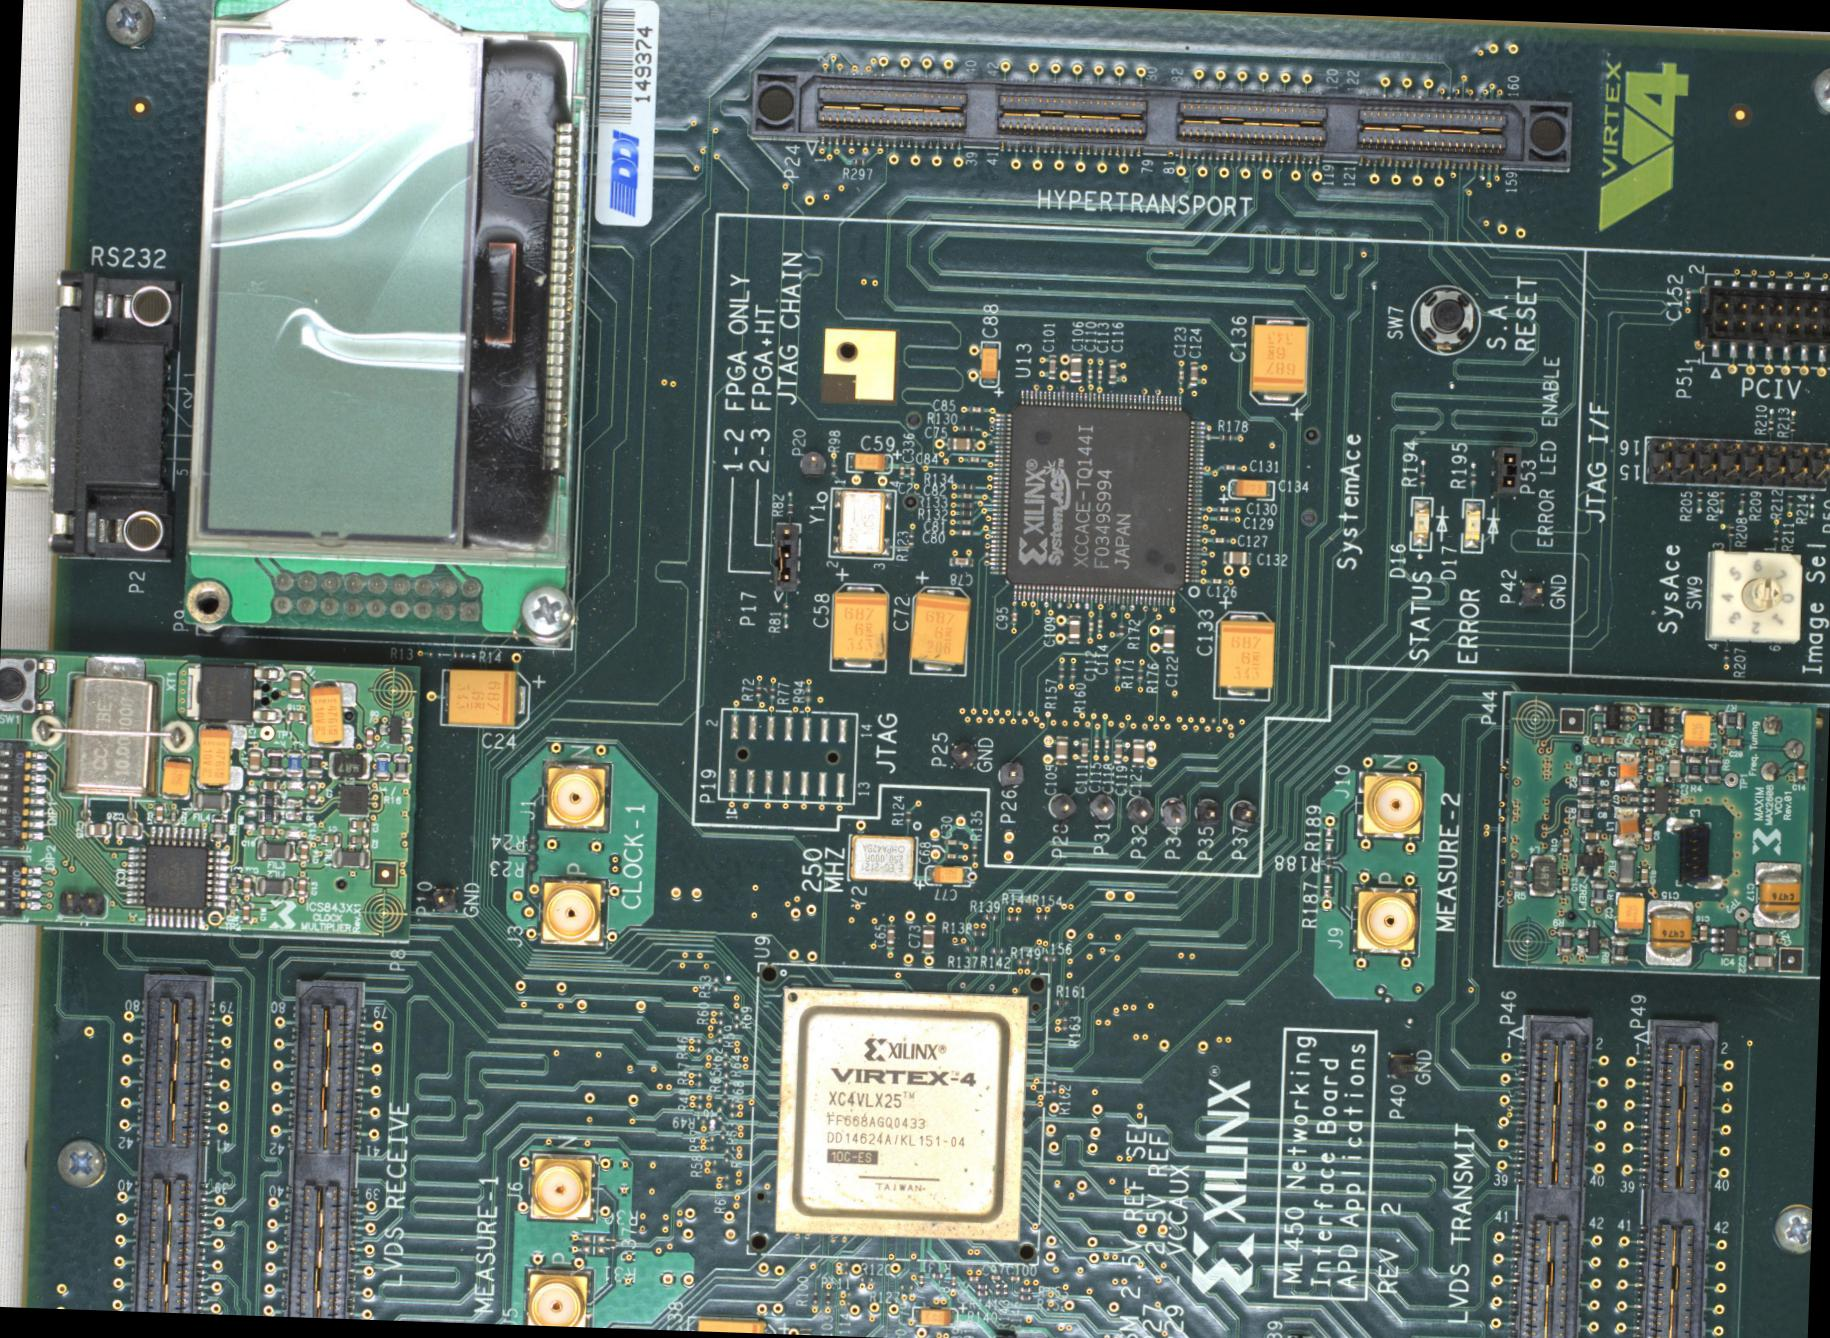Button: (1408, 283, 1480, 355), (0, 653, 57, 714)
Capacitor: (286, 669, 304, 699), (1662, 753, 1681, 783), (82, 818, 111, 837), (1746, 952, 1775, 970), (244, 746, 261, 776), (1748, 930, 1775, 949), (114, 821, 141, 838), (1222, 548, 1250, 564), (1053, 734, 1067, 764), (919, 923, 933, 952), (946, 436, 975, 450), (1067, 614, 1080, 643), (1161, 624, 1174, 652), (1131, 739, 1144, 767), (1068, 352, 1081, 381), (347, 817, 369, 832), (1721, 733, 1742, 749), (1594, 731, 1615, 747), (1792, 758, 1806, 781), (345, 831, 368, 845), (294, 875, 308, 898), (259, 777, 278, 793), (1635, 864, 1650, 885), (297, 839, 311, 861), (362, 726, 375, 749), (1640, 822, 1652, 845), (240, 872, 253, 895), (239, 901, 251, 923), (257, 822, 277, 837), (1581, 751, 1603, 764), (284, 710, 305, 723), (1641, 753, 1654, 774), (1559, 834, 1571, 855), (152, 801, 165, 822), (1557, 872, 1570, 893), (1694, 922, 1706, 943), (1111, 737, 1121, 763), (1580, 828, 1600, 841), (305, 781, 318, 801), (884, 922, 894, 947), (948, 555, 972, 565), (1078, 737, 1088, 761), (1188, 361, 1198, 385), (1641, 734, 1660, 747), (1107, 358, 1115, 382), (168, 808, 179, 824), (227, 872, 239, 886), (1047, 354, 1054, 376), (1625, 793, 1640, 803), (227, 895, 237, 909), (1215, 503, 1230, 511), (1091, 736, 1100, 751), (1596, 785, 1608, 795), (1596, 800, 1608, 810), (958, 527, 972, 535), (897, 460, 904, 476), (908, 462, 915, 477), (1085, 618, 1093, 633), (1103, 734, 1110, 750), (942, 838, 958, 845), (941, 851, 956, 858), (1176, 366, 1184, 382), (1085, 365, 1093, 381), (1222, 463, 1236, 470), (966, 455, 980, 462), (959, 491, 973, 499), (1215, 513, 1229, 520), (1211, 535, 1225, 543), (948, 1273, 955, 1287), (916, 1271, 924, 1285), (798, 1327, 813, 1334), (958, 517, 970, 524), (968, 405, 980, 412), (1010, 608, 1016, 622), (1095, 615, 1101, 629), (987, 1273, 1002, 1278), (1007, 1276, 1022, 1281), (1095, 366, 1101, 381), (1209, 577, 1222, 582), (966, 1276, 980, 1280)
Clock: (55, 652, 162, 820), (827, 486, 895, 558), (845, 832, 918, 882)
Connector: (746, 67, 1574, 170), (3, 266, 182, 567), (126, 970, 213, 1312), (281, 976, 365, 1318), (1507, 1011, 1593, 1337), (1634, 1017, 1718, 1337), (1689, 374, 1829, 476), (1640, 433, 1827, 490), (538, 757, 612, 832), (536, 874, 610, 947), (1348, 882, 1421, 956), (527, 1149, 598, 1223), (1354, 768, 1425, 841), (521, 1263, 595, 1327), (55, 888, 105, 918), (1387, 1053, 1418, 1085), (1085, 791, 1115, 821), (1047, 791, 1077, 820), (1158, 794, 1185, 825), (1192, 797, 1220, 825), (1124, 795, 1154, 822), (948, 740, 975, 768), (997, 760, 1026, 787), (1228, 798, 1255, 827), (797, 450, 824, 477), (432, 885, 457, 913), (1517, 580, 1543, 607), (773, 520, 800, 538), (1684, 285, 1689, 301)
Display: (158, 0, 597, 651)
EM: (254, 838, 294, 862), (253, 874, 293, 895), (192, 790, 230, 811), (331, 847, 369, 866), (1615, 848, 1634, 888)
Electrolytic Capacitor: (1211, 608, 1274, 702), (827, 581, 889, 673), (906, 584, 969, 676), (438, 668, 530, 729), (1247, 314, 1309, 405), (305, 678, 355, 749), (195, 722, 244, 793), (1752, 862, 1802, 930), (1644, 899, 1692, 966), (683, 1312, 777, 1332), (161, 754, 192, 798), (1678, 707, 1708, 751), (1613, 891, 1642, 935), (844, 449, 892, 473), (924, 862, 970, 885), (914, 1305, 962, 1327), (978, 339, 999, 388)
IC: (745, 960, 1049, 1264), (987, 388, 1202, 607), (126, 824, 229, 928), (1591, 702, 1630, 730), (1637, 703, 1675, 731), (1709, 925, 1745, 954), (1641, 784, 1678, 812), (337, 784, 368, 815)
Inductor: (1662, 815, 1723, 889), (327, 750, 369, 778), (1527, 854, 1554, 898), (1613, 749, 1640, 791), (1613, 805, 1640, 847)
Jumper: (770, 538, 798, 592), (1490, 445, 1519, 499), (1284, 1332, 1316, 1337)
Led: (1407, 494, 1432, 551), (1459, 497, 1483, 553)
Pads: (716, 706, 857, 804), (578, 1231, 605, 1256), (243, 784, 257, 805), (243, 808, 256, 830), (1320, 872, 1330, 899), (1323, 827, 1331, 851), (287, 778, 303, 790), (286, 827, 301, 838), (732, 1011, 742, 1028), (693, 1071, 703, 1088), (722, 1170, 730, 1190), (695, 1092, 703, 1111), (715, 1102, 723, 1121), (708, 1133, 716, 1152), (720, 1145, 729, 1163), (780, 609, 789, 626), (693, 1035, 702, 1053), (720, 1070, 729, 1087), (709, 1156, 716, 1176), (858, 1274, 874, 1283), (720, 1048, 727, 1067), (712, 974, 719, 991), (715, 1027, 722, 1044), (698, 1118, 715, 1125), (719, 1122, 726, 1139), (841, 1258, 848, 1276), (897, 1283, 914, 1290), (844, 1290, 851, 1307), (1806, 501, 1813, 517), (716, 1008, 723, 1024), (719, 1088, 726, 1104), (727, 1101, 735, 1116), (804, 685, 810, 702), (428, 649, 442, 655)
Pins: (267, 567, 484, 624), (1758, 712, 1804, 784)
Potentiometer: (1704, 548, 1800, 642)
Resistor Network: (372, 750, 391, 781), (1574, 797, 1593, 827), (1507, 859, 1526, 889), (209, 811, 226, 842), (264, 747, 283, 776), (391, 751, 409, 780), (1716, 710, 1746, 727), (1684, 753, 1701, 783), (304, 747, 321, 777), (286, 747, 303, 776), (1588, 878, 1606, 906), (1610, 935, 1627, 963), (1704, 756, 1721, 783), (1577, 767, 1594, 794), (1557, 926, 1573, 954), (284, 797, 303, 820), (259, 794, 278, 807), (257, 810, 276, 822), (526, 832, 537, 849), (1056, 663, 1064, 679), (526, 854, 534, 869), (989, 945, 1005, 953), (1014, 956, 1030, 964), (1016, 1284, 1032, 1293), (958, 423, 973, 432), (825, 459, 834, 473), (963, 943, 978, 952), (958, 508, 973, 516), (1115, 621, 1122, 636), (1722, 645, 1729, 660), (1135, 665, 1142, 680), (1112, 665, 1120, 680), (1067, 663, 1074, 679), (980, 912, 996, 919), (608, 1234, 615, 1250), (1218, 432, 1233, 439), (959, 482, 973, 489), (959, 500, 973, 507), (450, 651, 465, 658), (1033, 912, 1047, 919), (970, 929, 985, 936), (1060, 1016, 1067, 1030), (1017, 1293, 1032, 1300), (969, 845, 976, 858), (908, 531, 914, 547), (904, 808, 909, 824), (1050, 1078, 1056, 1094), (1469, 470, 1475, 484), (1418, 470, 1424, 484), (1786, 491, 1792, 506), (1728, 523, 1733, 537), (1772, 527, 1777, 541), (786, 500, 791, 514), (1053, 999, 1067, 1004), (929, 1271, 943, 1277), (1002, 1281, 1007, 1295), (1767, 418, 1773, 432), (754, 685, 760, 697), (1324, 855, 1330, 868), (1006, 915, 1019, 920), (975, 1281, 987, 1287), (810, 1290, 816, 1302), (1719, 489, 1723, 503), (1041, 956, 1056, 960), (995, 1281, 999, 1295), (975, 1290, 989, 1294), (1696, 489, 1701, 501), (1739, 490, 1743, 503), (769, 686, 773, 699), (824, 1291, 828, 1304), (1789, 419, 1793, 432)
Switch: (0, 734, 48, 852), (0, 849, 44, 923)
Test Point: (817, 324, 894, 403), (205, 908, 223, 926), (1721, 770, 1738, 787), (1733, 905, 1749, 923), (259, 723, 274, 740)
Transistor: (175, 659, 284, 723), (378, 714, 412, 744), (1574, 926, 1607, 956)
Zener Diode: (1573, 844, 1604, 876)
